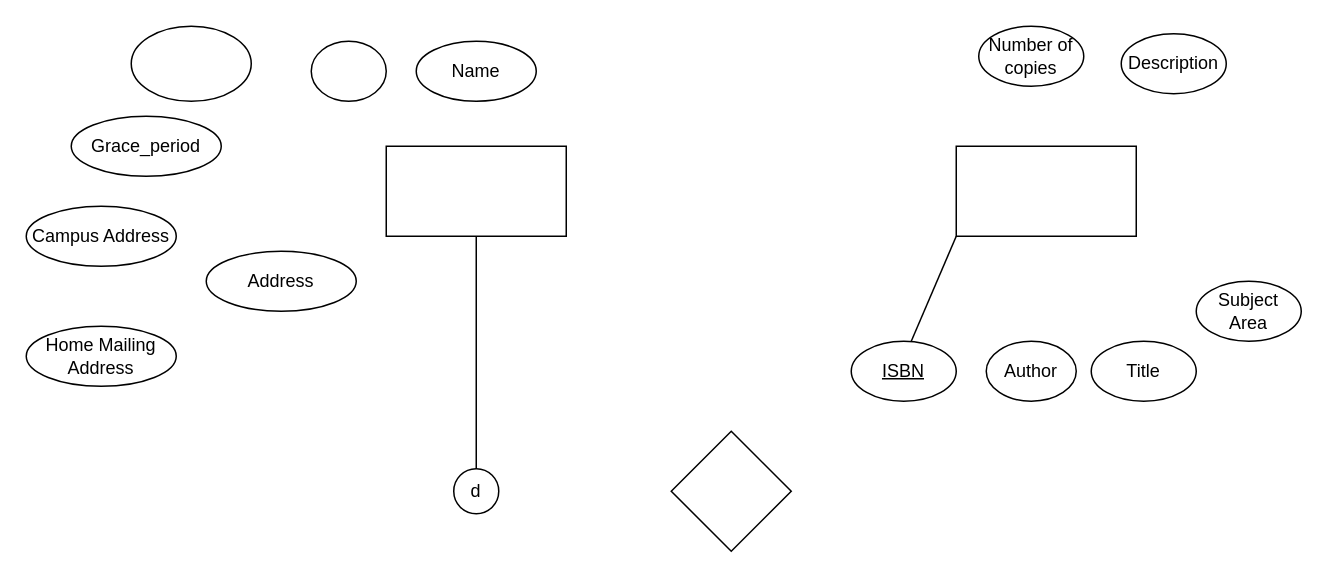
Some shapes in this 1328 by 578 pixel diagram are drawn without their labels. The shapes that lost their labels are listed below. From the top down, each one's box as (x1, y1, x2, y2) in pixels, then its label:
(130, 25, 251, 101): Phone Number
(310, 40, 386, 101): SSN
(385, 145, 566, 236): Members
(955, 145, 1136, 236): Books
(670, 430, 791, 551): issue
